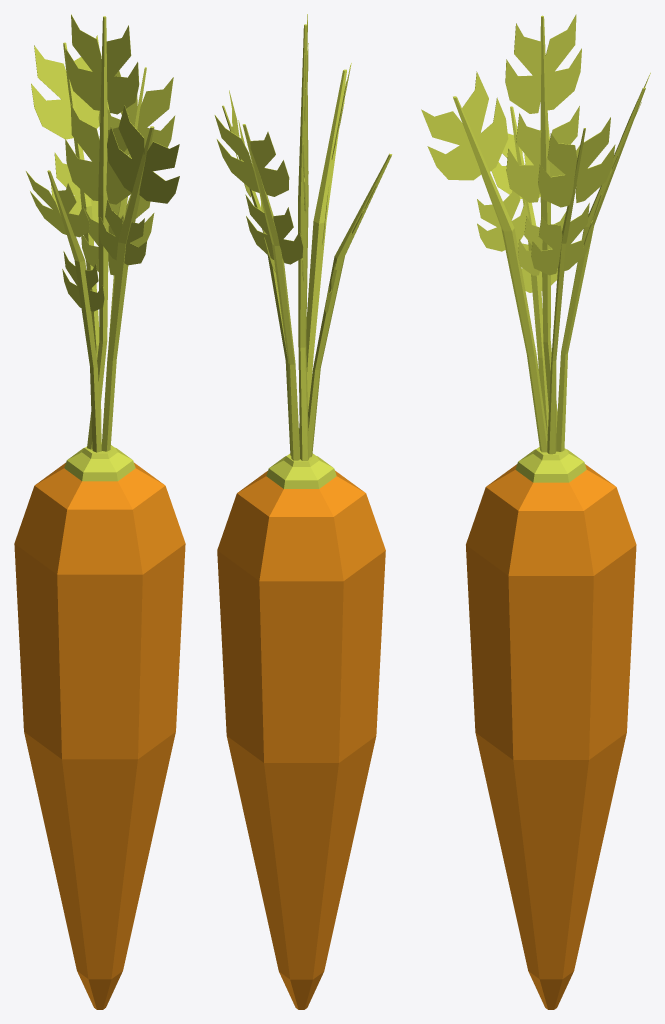
File: Carrot.fbx
3 renders of one model, left to right at view 1: azimuth 30°, elevation 25°; view 2: azimuth 150°, elevation 25°; view 3: azimuth 270°, elevation 25°, orthographic.
Visible parts, largest first — view 1: Carrot, Carrot.001; view 2: Carrot, Carrot.001; view 3: Carrot, Carrot.001.
Part boxes in pixels (left/top/right/bottom): Carrot: left=14, top=460, right=185, bottom=1009; Carrot.001: left=26, top=14, right=179, bottom=472; Carrot: left=217, top=468, right=385, bottom=1009; Carrot.001: left=214, top=14, right=392, bottom=480; Carrot: left=466, top=462, right=636, bottom=1009; Carrot.001: left=421, top=14, right=650, bottom=473.
Size of the model in its own units: 9.95 by 63.05 by 13.25.
